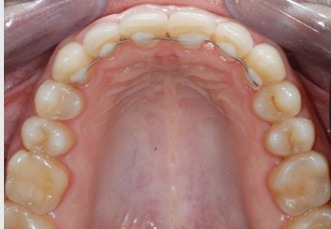UL1BC_decay: (252, 82, 302, 121)
UL1M_healthy: (269, 151, 330, 213)
UL2BC_healthy: (267, 118, 313, 156)
ULCI_decay: (168, 11, 215, 48)
ULC_decay: (245, 45, 286, 89)
ULLI_decay: (216, 22, 252, 61)
UR1BC_healthy: (35, 80, 83, 119)
UR1M_healthy: (6, 152, 67, 213)
UR2BC_healthy: (22, 117, 73, 156)
URCI_decay: (120, 12, 167, 48)
URC_decay: (52, 42, 93, 84)
URLI_decay: (83, 22, 118, 58)
